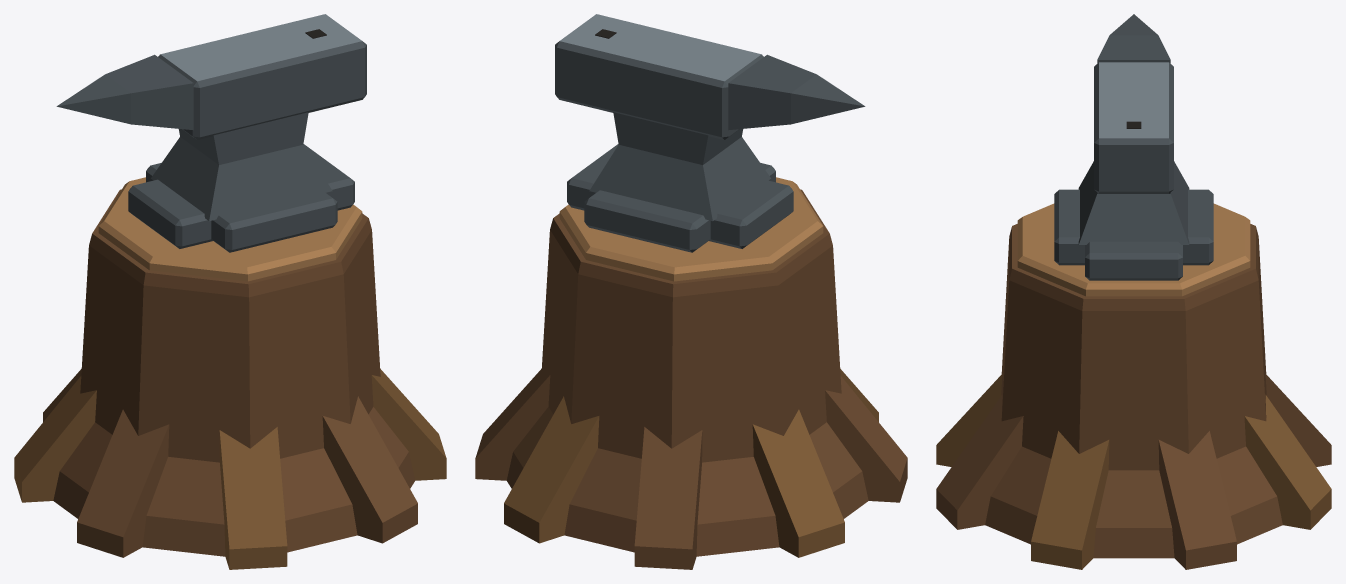
File: mdvl_interiors_anvil_01.glb
3 renders of one model, left to right at view 1: azimuth 30°, elevation 25°; view 2: azimuth 150°, elevation 25°; view 3: azimuth 270°, elevation 25°, orthographic. The views are drawn at different scales.
Parts seen in each view (by area): view 1: mdvl_interiors_anvil_01; view 2: mdvl_interiors_anvil_01; view 3: mdvl_interiors_anvil_01.
Part boxes in pixels (x1,y1,x2,y2): mdvl_interiors_anvil_01: (14, 14, 446, 569); mdvl_interiors_anvil_01: (475, 14, 907, 569); mdvl_interiors_anvil_01: (936, 14, 1331, 569).
Size of the model in its own units: 0.6442 by 0.7212 by 0.6442.
1 material, 1 textured.
